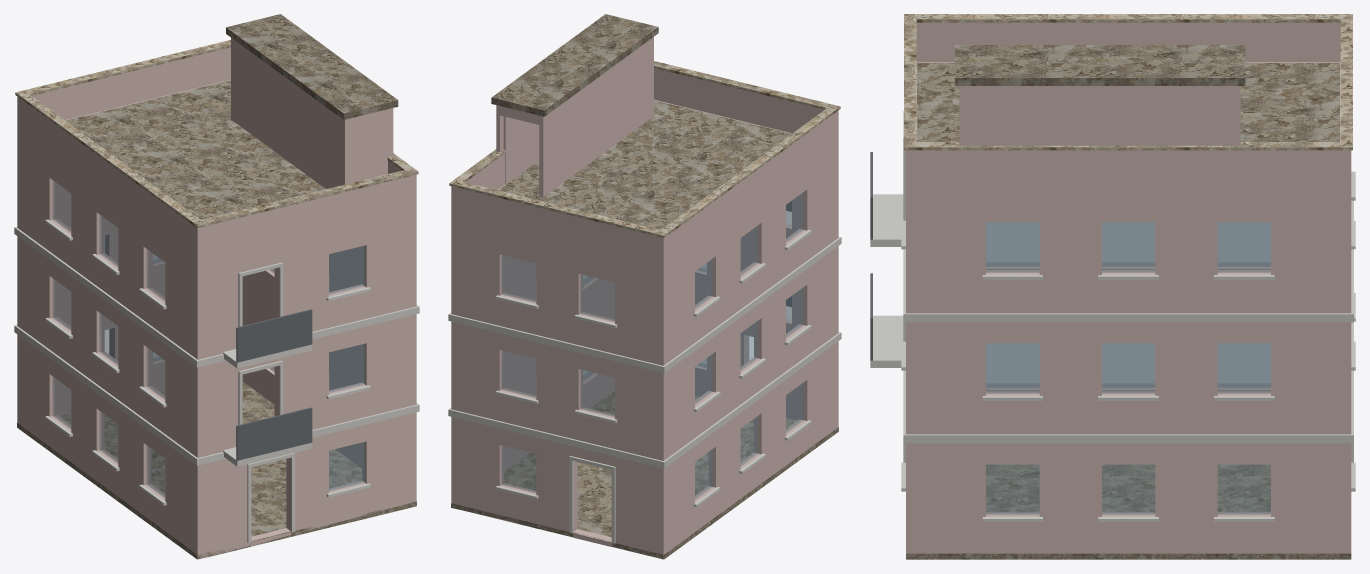
Rendered from bay-townhouse-pink.zfix-v7.lod1.glb.
The picture shows the model from 3 angles, left to right: view 1: azimuth 30°, elevation 25°; view 2: azimuth 150°, elevation 25°; view 3: azimuth 270°, elevation 25°; orthographic projection. The views are drawn at different scales.
Parts seen in each view (by area): view 1: bay-townhouse-pink; view 2: bay-townhouse-pink; view 3: bay-townhouse-pink.
Part boxes in pixels (<box>): bay-townhouse-pink: <box>14,14,419,559</box>; bay-townhouse-pink: <box>448,14,841,559</box>; bay-townhouse-pink: <box>870,14,1355,559</box>.
Bounding box in the file's own units: 7.2 × 11.96 × 10.9.
Materials: 3 (1 with a texture image).
